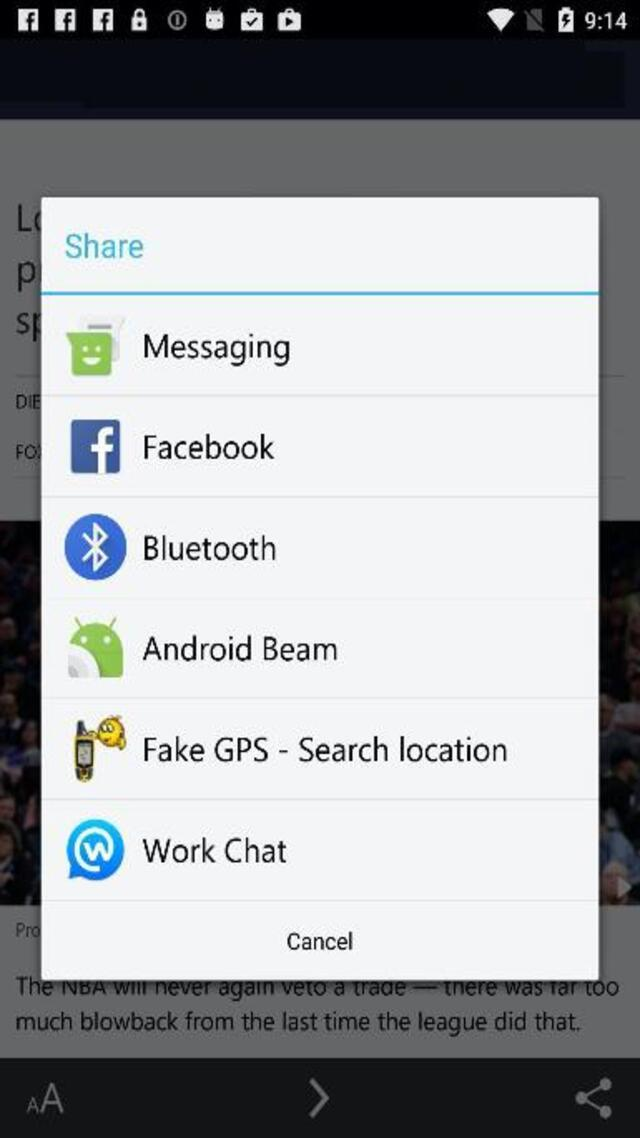Icon: (64, 514, 126, 580), (66, 819, 124, 881), (65, 315, 125, 374), (73, 716, 126, 782), (68, 617, 122, 677), (72, 420, 122, 473), (575, 1076, 612, 1118), (26, 1082, 64, 1112), (308, 1076, 330, 1118)
Text: (146, 736, 507, 761), (144, 332, 288, 364), (142, 635, 336, 658), (144, 534, 275, 561), (142, 838, 287, 862), (144, 434, 274, 459), (280, 926, 356, 954), (65, 233, 144, 258)
TextButton: (40, 901, 598, 980)
